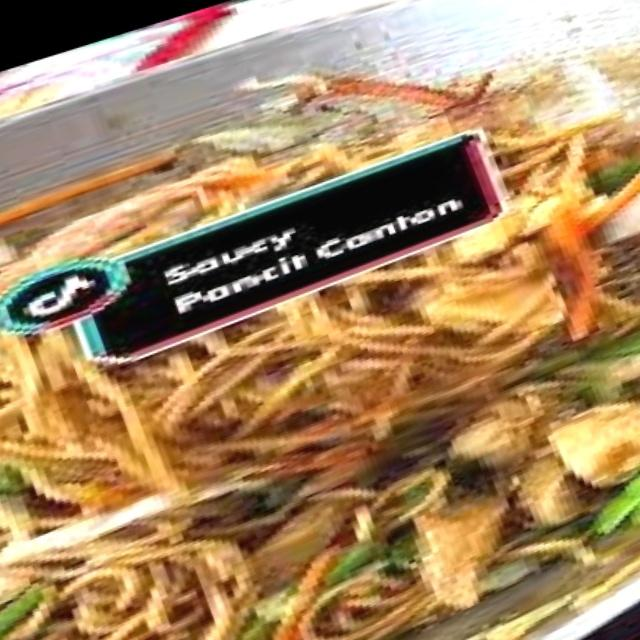pancit bihon: (0, 118, 639, 639)
